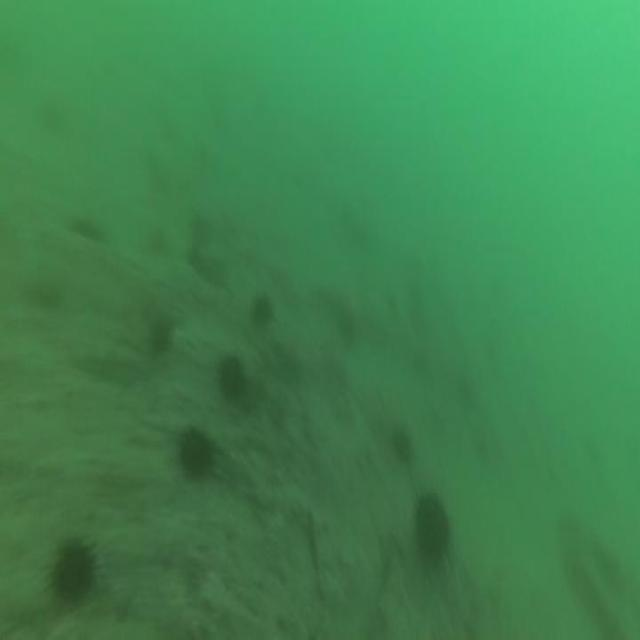echinus: (416, 496, 450, 563), (55, 547, 95, 602), (180, 430, 213, 479), (221, 359, 241, 403), (150, 316, 172, 354), (392, 424, 412, 464), (252, 298, 274, 326)
starfish: (101, 349, 150, 389)
